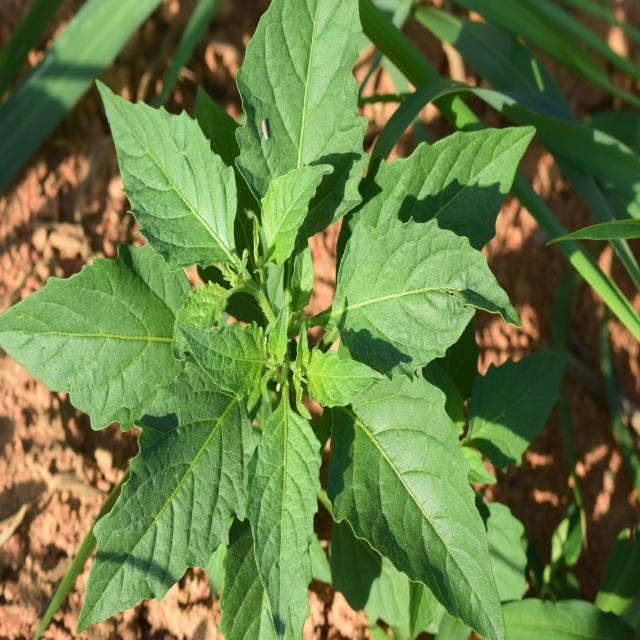Black_nightshade: (44, 45, 519, 623)
